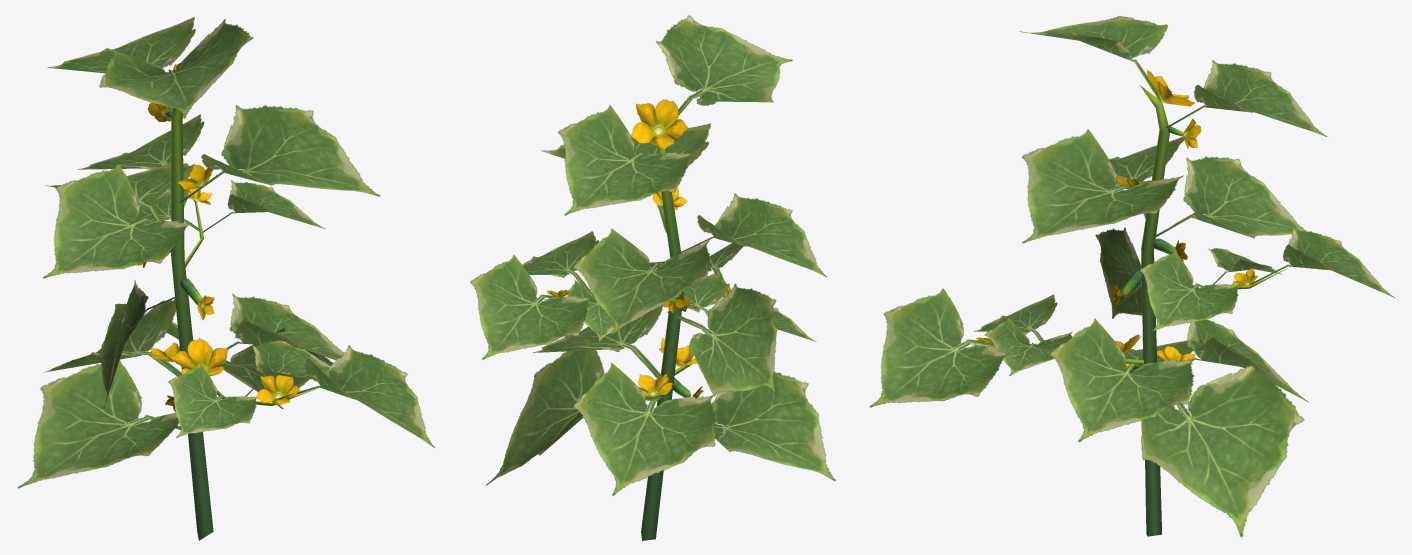
Rendered from plant_cucumber_S2.gltf.
The picture shows the model from 3 angles, left to right: view 1: azimuth 30°, elevation 25°; view 2: azimuth 150°, elevation 25°; view 3: azimuth 270°, elevation 25°; orthographic projection. The views are drawn at different scales.
Parts seen in each view (by area): view 1: plant_cucumber_S2; view 2: plant_cucumber_S2; view 3: plant_cucumber_S2.
Boxes of the visible parts, <box> form: plant_cucumber_S2: <box>17,17,434,540</box>; plant_cucumber_S2: <box>470,15,835,540</box>; plant_cucumber_S2: <box>869,16,1394,537</box>.
Bounding box in the file's own units: 0.4992 × 0.7714 × 0.7335.
Materials: 1 (1 with a texture image).
